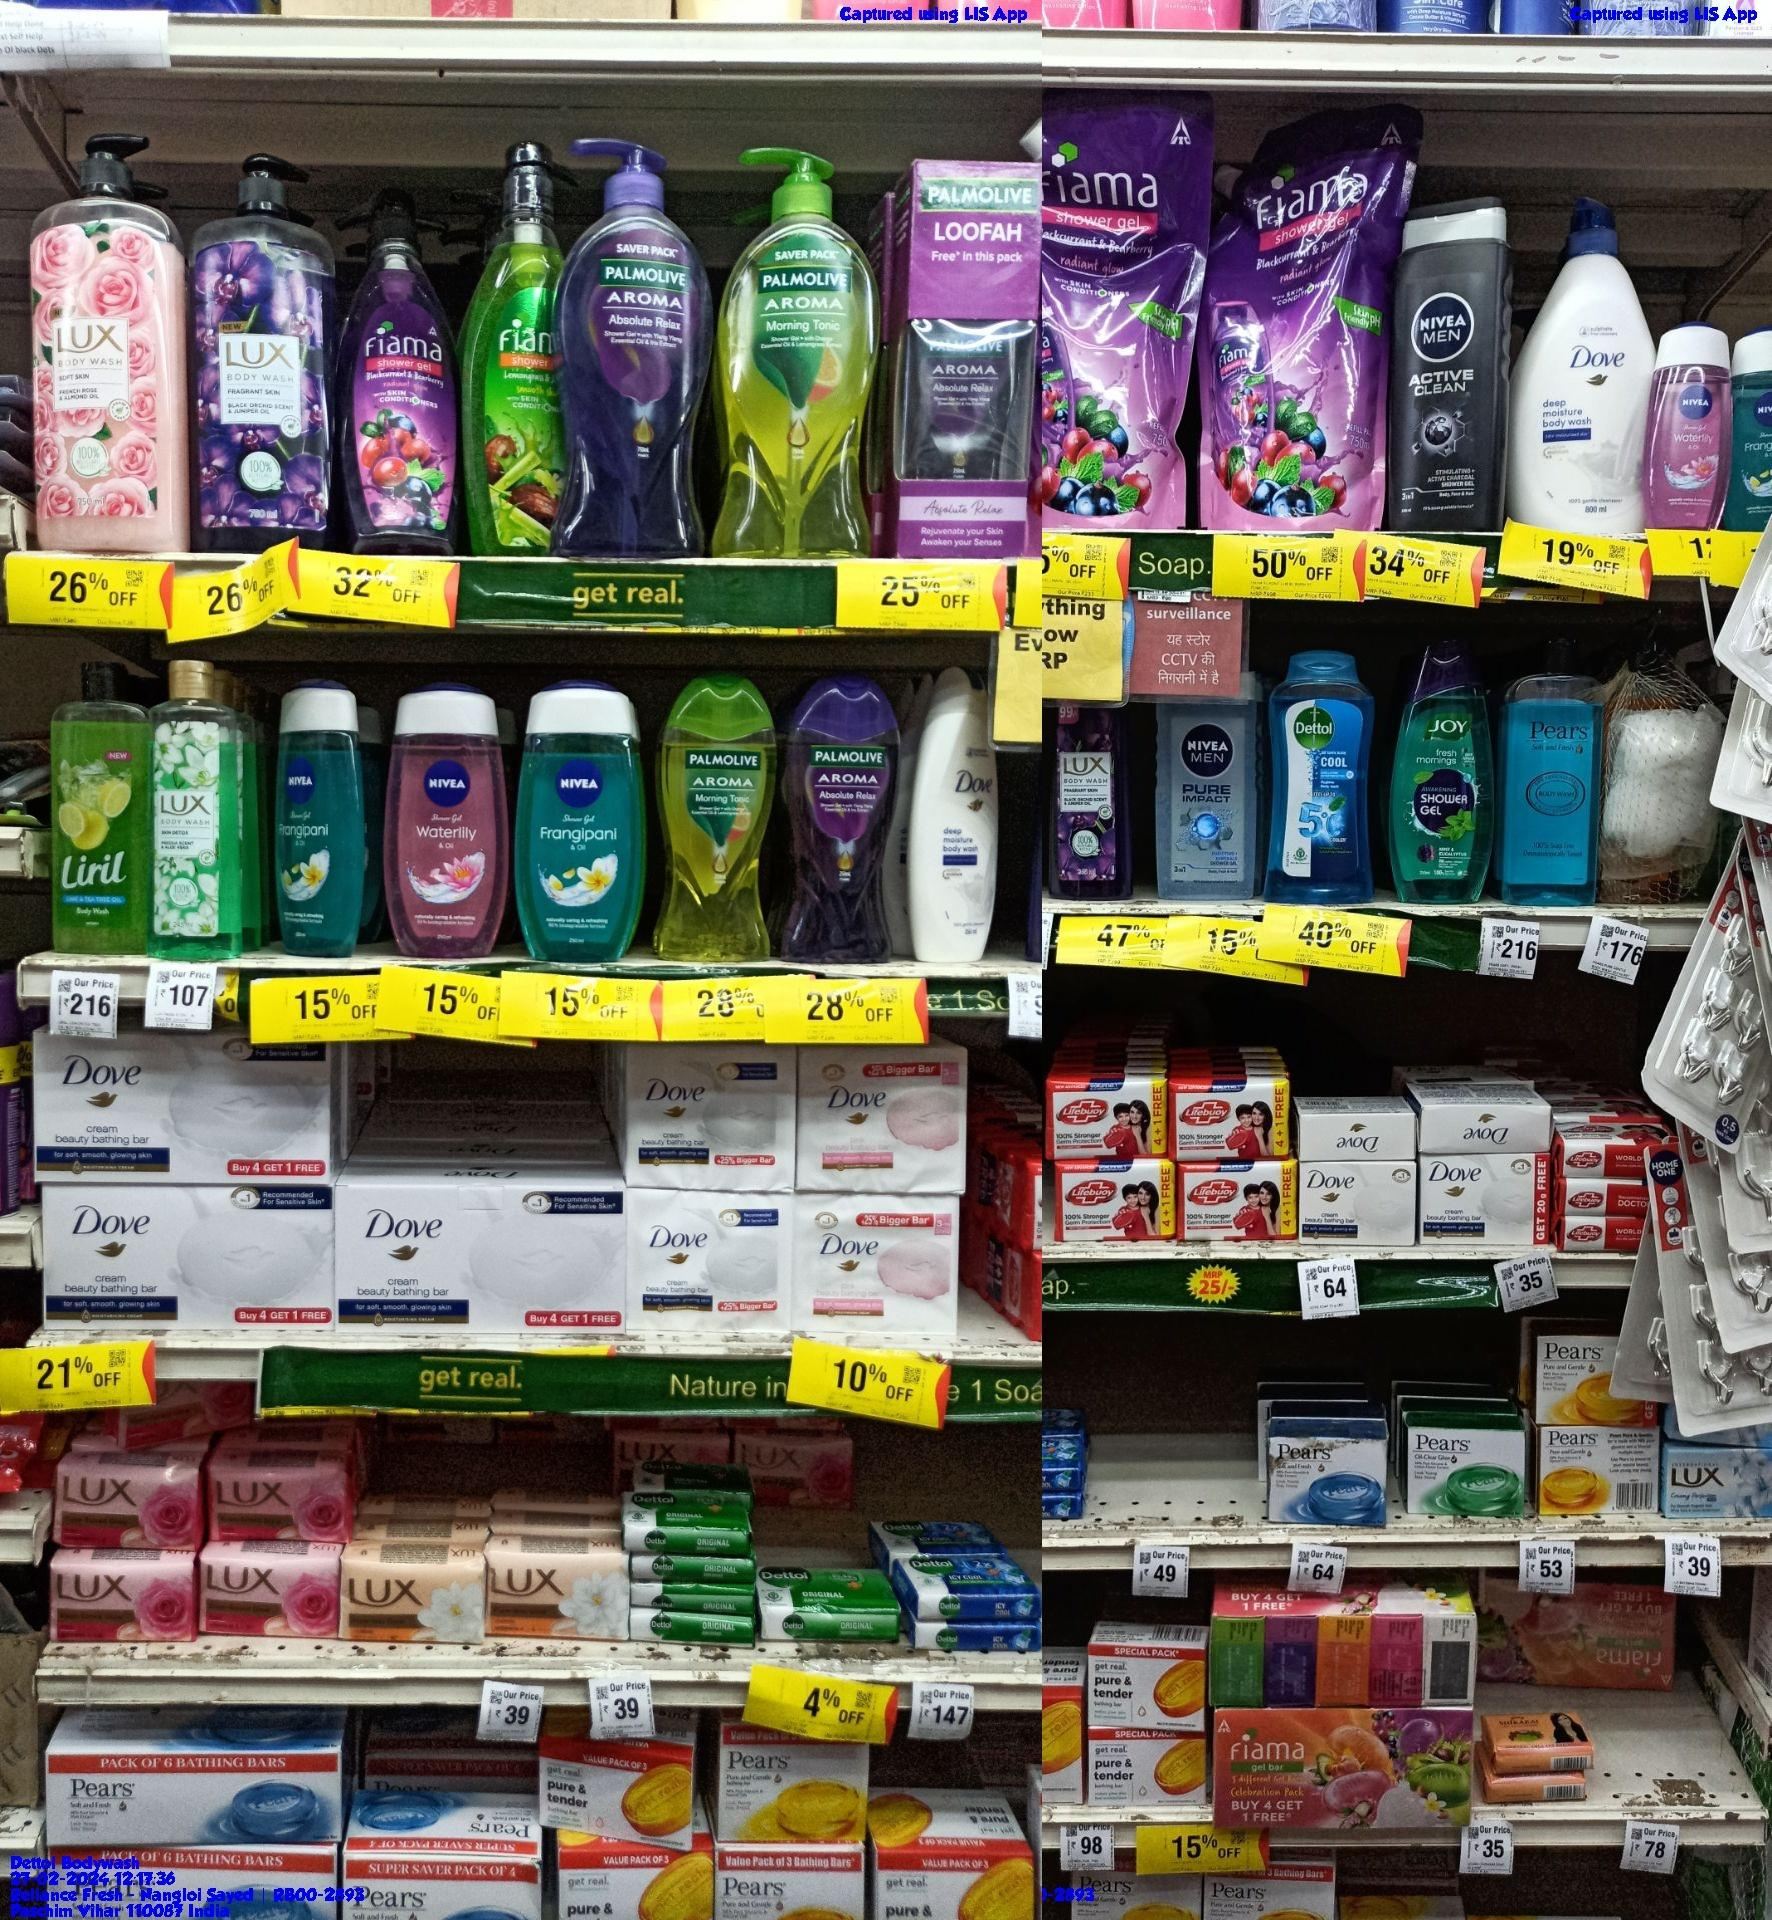Dettol_Bodywash_Cool: (1274, 646, 1374, 908)
Dove_Deep_Moisture_Body_Wash_250ML: (926, 662, 1000, 973)
Joy_Shower_Gel_Mint_and_Eucalyptus_250ML: (1393, 634, 1491, 908)
Liril_Lime_and_Tea_Tree_Oil_Body_Wash_250ML: (52, 659, 145, 960)
Lux_Black_Orchid_Scent_and_Juniper_Oil_Body_Wash_245ML: (1050, 704, 1133, 905)
Lux_Body_Wash_Skin_Detox_Freesia_Scent_and_Alove_Vera_245ML: (149, 649, 232, 963)
Nivea_Shower_Gel_Frangipani_and_Oil_250ML: (520, 677, 639, 967), (271, 679, 359, 963)
Nivea_Shower_Gel_Waterlily_and_Oil_250ML: (390, 681, 505, 962), (1647, 319, 1729, 535)
Palmolive_Aroma_Morning_Tonic_Shower_Gel_250ML: (659, 677, 776, 965)
Palmolive_Aroma_Relax_250ML: (786, 679, 898, 967)
Pears_Pure_Glycerin_and_Mint_Extracts_Body_Wash_250ML: (1501, 634, 1601, 915)
